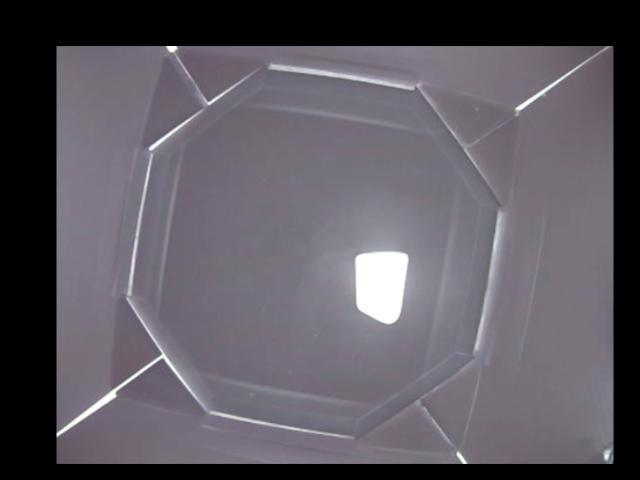Pebble: (356, 249, 405, 324)
